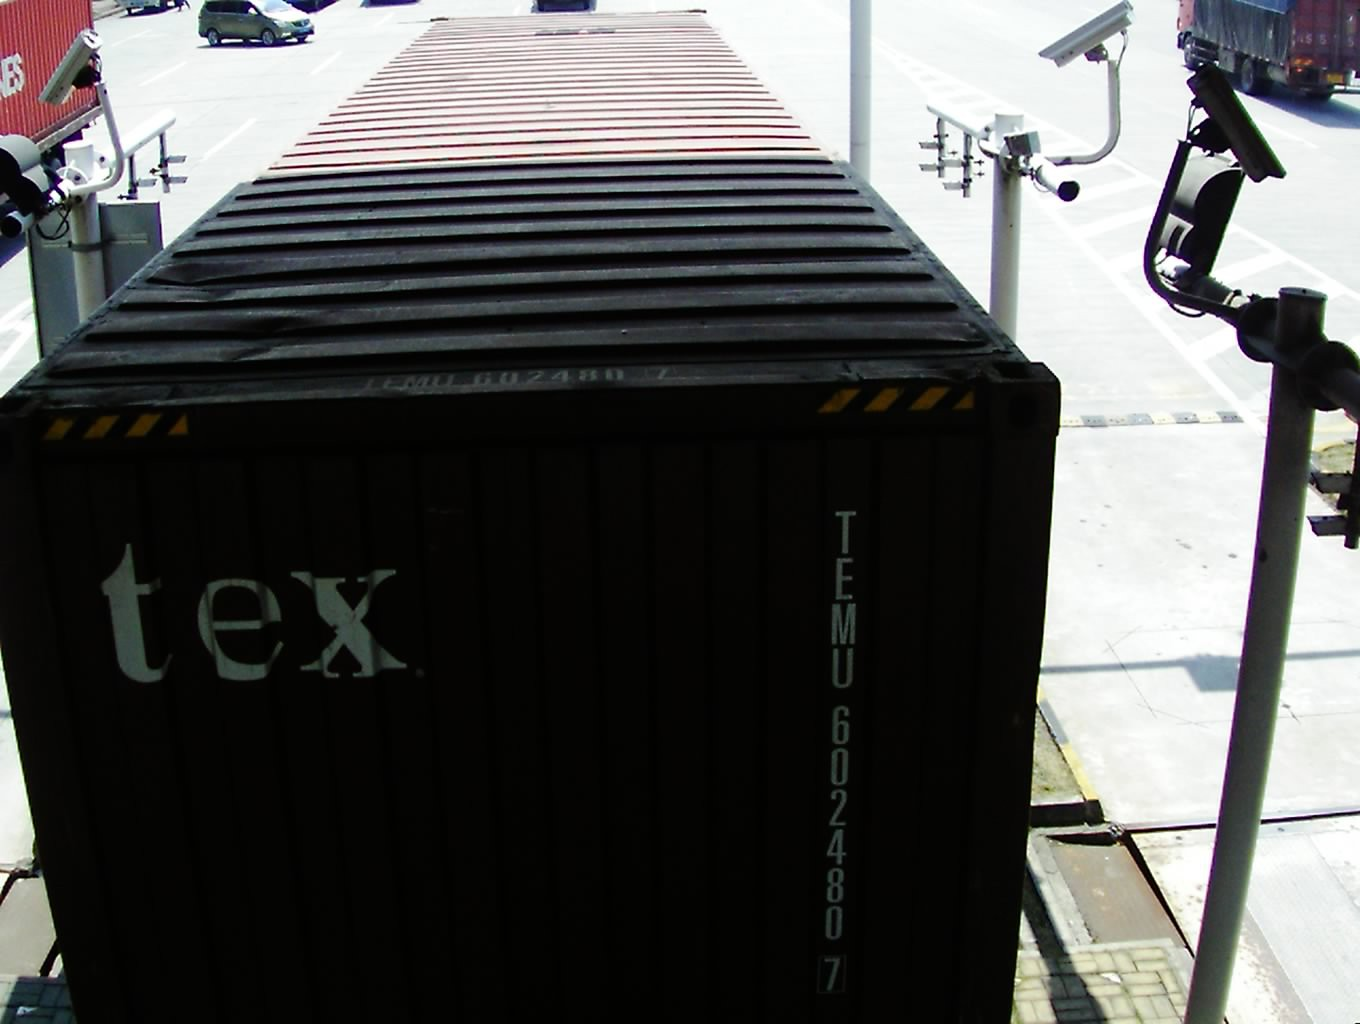words: (815, 498, 864, 1005)
